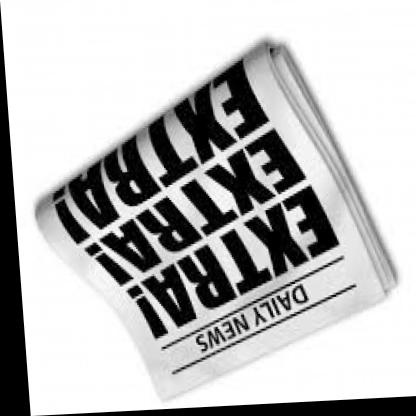trash: (36, 41, 397, 398)
